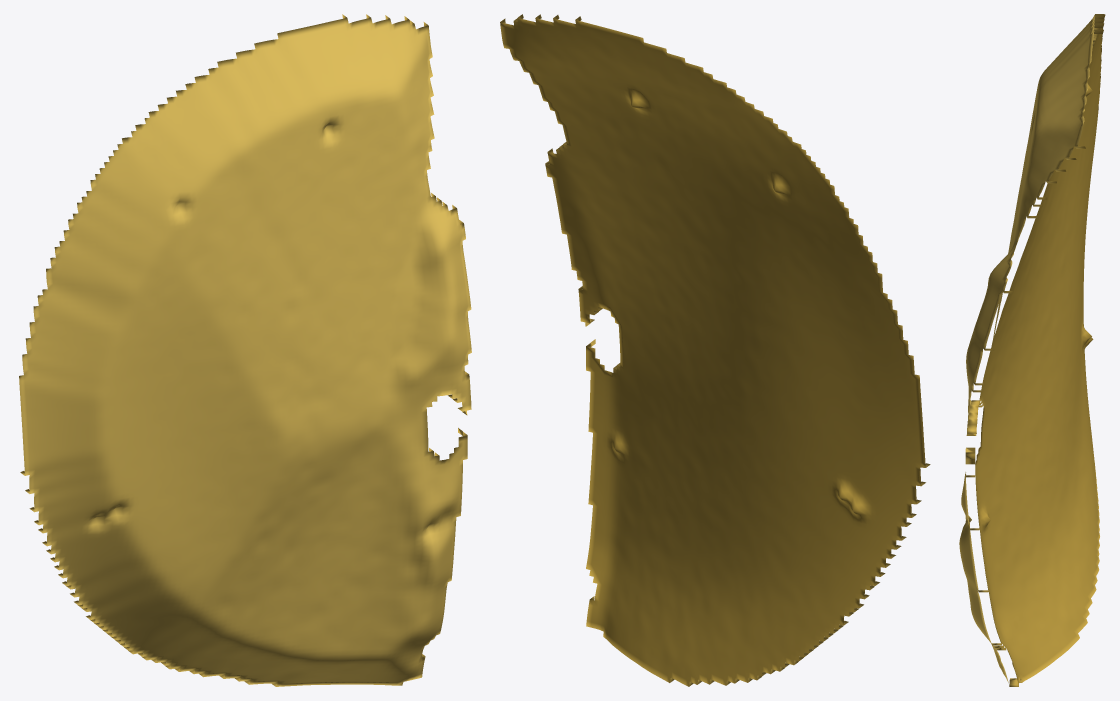
Rendered from PAIR-ARCH-PAD_LEFT_addon.glb.
3 views of the same model, side by side, from view 1: azimuth 30°, elevation 25°; view 2: azimuth 150°, elevation 25°; view 3: azimuth 270°, elevation 25° (orthographic). The views are drawn at different scales.
Visible parts, largest first — view 1: geometry_0; view 2: geometry_0; view 3: geometry_0.
Boxes of the visible parts, left/top/right/bottom form: geometry_0: left=19, top=14, right=471, bottom=686; geometry_0: left=500, top=14, right=930, bottom=686; geometry_0: left=959, top=14, right=1105, bottom=686.
Size of the model in its own units: 90 by 134 by 28.87.
